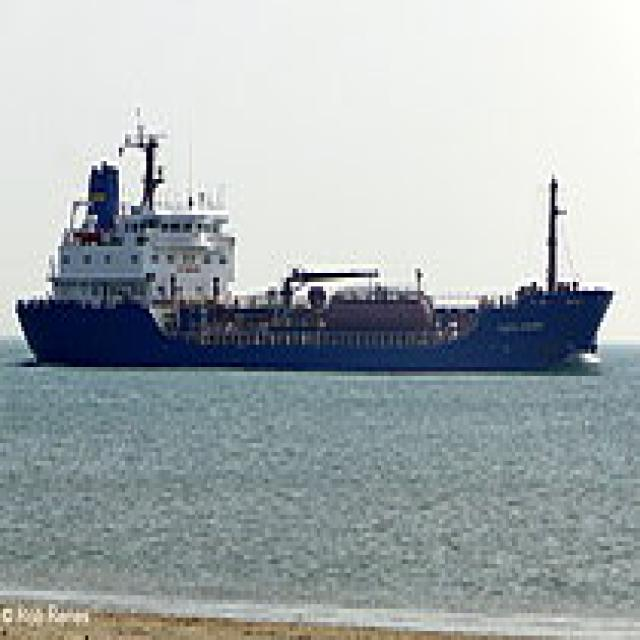Tanker: (9, 98, 613, 372)
